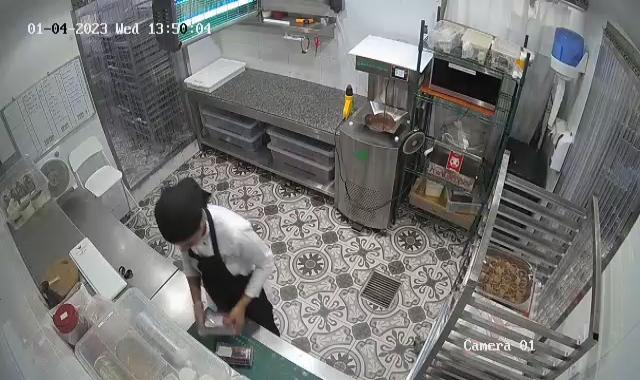no_hairnet: (156, 176, 209, 244)
